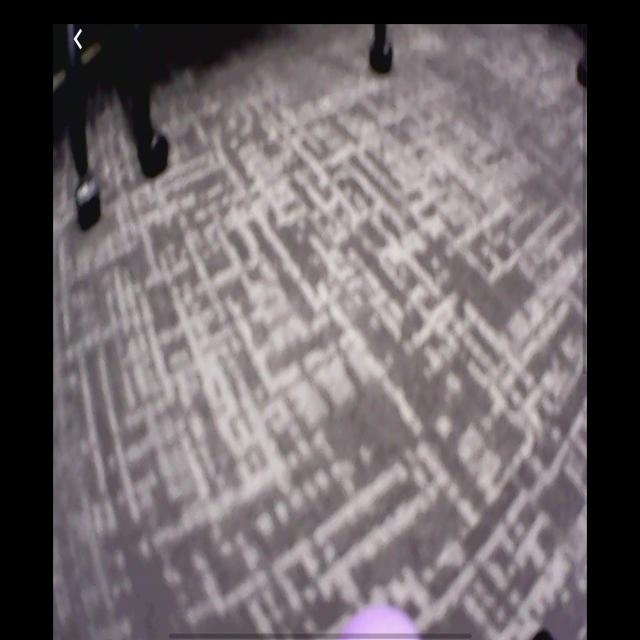ball: (335, 606, 423, 640)
